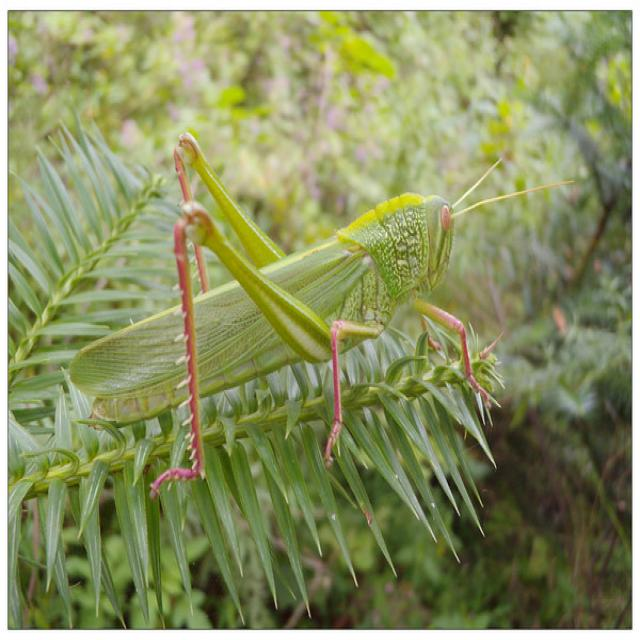ZhaMeng: (59, 135, 501, 482)
